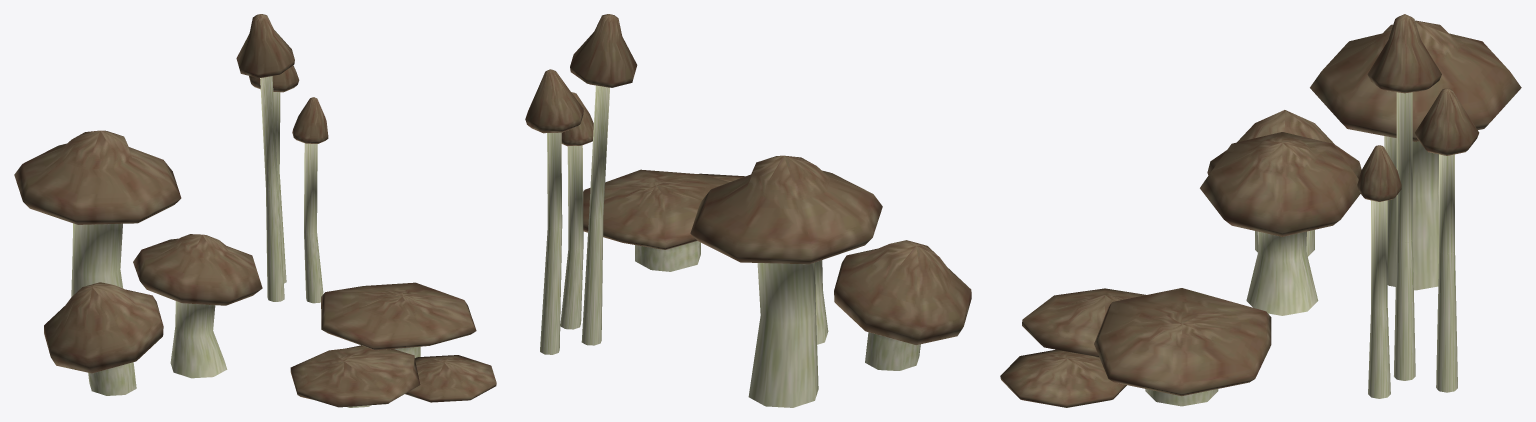
Rendered from Mushroom_Cluster.glb.
3 views of the same model, side by side, from view 1: azimuth 30°, elevation 25°; view 2: azimuth 150°, elevation 25°; view 3: azimuth 270°, elevation 25° (orthographic). The views are drawn at different scales.
Visible parts, largest first — view 1: Shroom2, Shroom3, Shroom1, Shroom8, Shroom7, Shroom6, Shroom5, Shroom9, Shroom4; view 2: Shroom2, Shroom1, Shroom8, Shroom6, Shroom4, Shroom5, Shroom3; view 3: Shroom3, Shroom2, Shroom8, Shroom6, Shroom4, Shroom5, Shroom9, Shroom7, Shroom1.
Boxes of the visible parts, x1,y1,x2,y2 form: Shroom2: [14, 130, 181, 296]; Shroom3: [133, 234, 262, 378]; Shroom1: [44, 282, 163, 395]; Shroom8: [321, 282, 476, 357]; Shroom7: [290, 345, 420, 407]; Shroom6: [236, 14, 294, 301]; Shroom5: [292, 97, 328, 303]; Shroom9: [405, 355, 496, 402]; Shroom4: [249, 65, 299, 283]; Shroom2: [690, 155, 882, 407]; Shroom1: [834, 240, 971, 370]; Shroom8: [583, 169, 729, 271]; Shroom6: [570, 14, 637, 345]; Shroom4: [525, 69, 583, 354]; Shroom5: [560, 92, 593, 329]; Shroom3: [815, 260, 828, 344]; Shroom3: [1200, 132, 1360, 315]; Shroom2: [1310, 20, 1521, 290]; Shroom8: [1094, 288, 1271, 406]; Shroom6: [1367, 14, 1441, 380]; Shroom4: [1415, 88, 1479, 392]; Shroom5: [1357, 145, 1401, 398]; Shroom9: [1000, 349, 1126, 407]; Shroom7: [1022, 288, 1145, 357]; Shroom1: [1207, 110, 1361, 256].
Size of the model in its own units: 0.8159 by 0.6 by 0.8025.
Materials: 1 (1 with a texture image).
